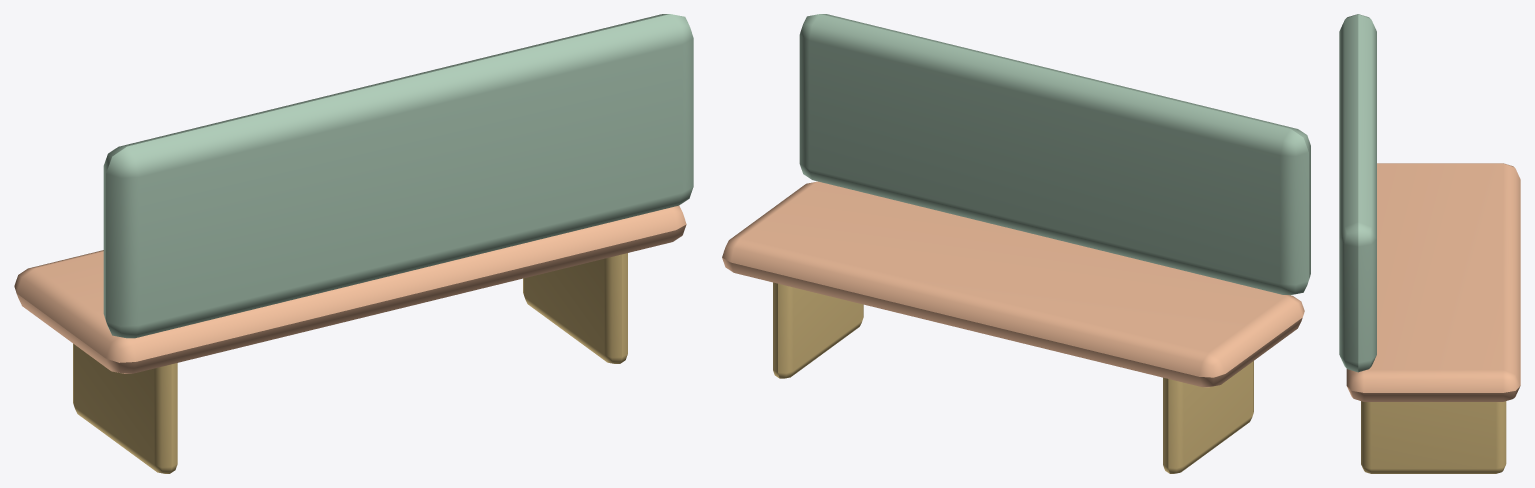
The model's file is WaitingBench.fbx.
The picture shows the model from 3 angles, left to right: view 1: azimuth 30°, elevation 25°; view 2: azimuth 150°, elevation 25°; view 3: azimuth 270°, elevation 25°; orthographic projection. The views are drawn at different scales.
Parts seen in each view (by area): view 1: WaitingBench_Sage, WaitingBench_Apricot, WaitingBench_Gold; view 2: WaitingBench_Sage, WaitingBench_Apricot, WaitingBench_Gold; view 3: WaitingBench_Apricot, WaitingBench_Sage, WaitingBench_Gold.
Boxes of the visible parts, x1=… form: WaitingBench_Sage: x1=103, y1=14, x2=693, y2=338; WaitingBench_Apricot: x1=14, y1=205, x2=686, y2=373; WaitingBench_Gold: x1=73, y1=253, x2=627, y2=473; WaitingBench_Sage: x1=799, y1=14, x2=1310, y2=295; WaitingBench_Apricot: x1=722, y1=181, x2=1304, y2=387; WaitingBench_Gold: x1=773, y1=282, x2=1253, y2=473; WaitingBench_Apricot: x1=1346, y1=163, x2=1520, y2=401; WaitingBench_Sage: x1=1339, y1=14, x2=1376, y2=372; WaitingBench_Gold: x1=1361, y1=401, x2=1506, y2=473.
Bounding box in the file's own units: 182 × 103 × 62.5.
